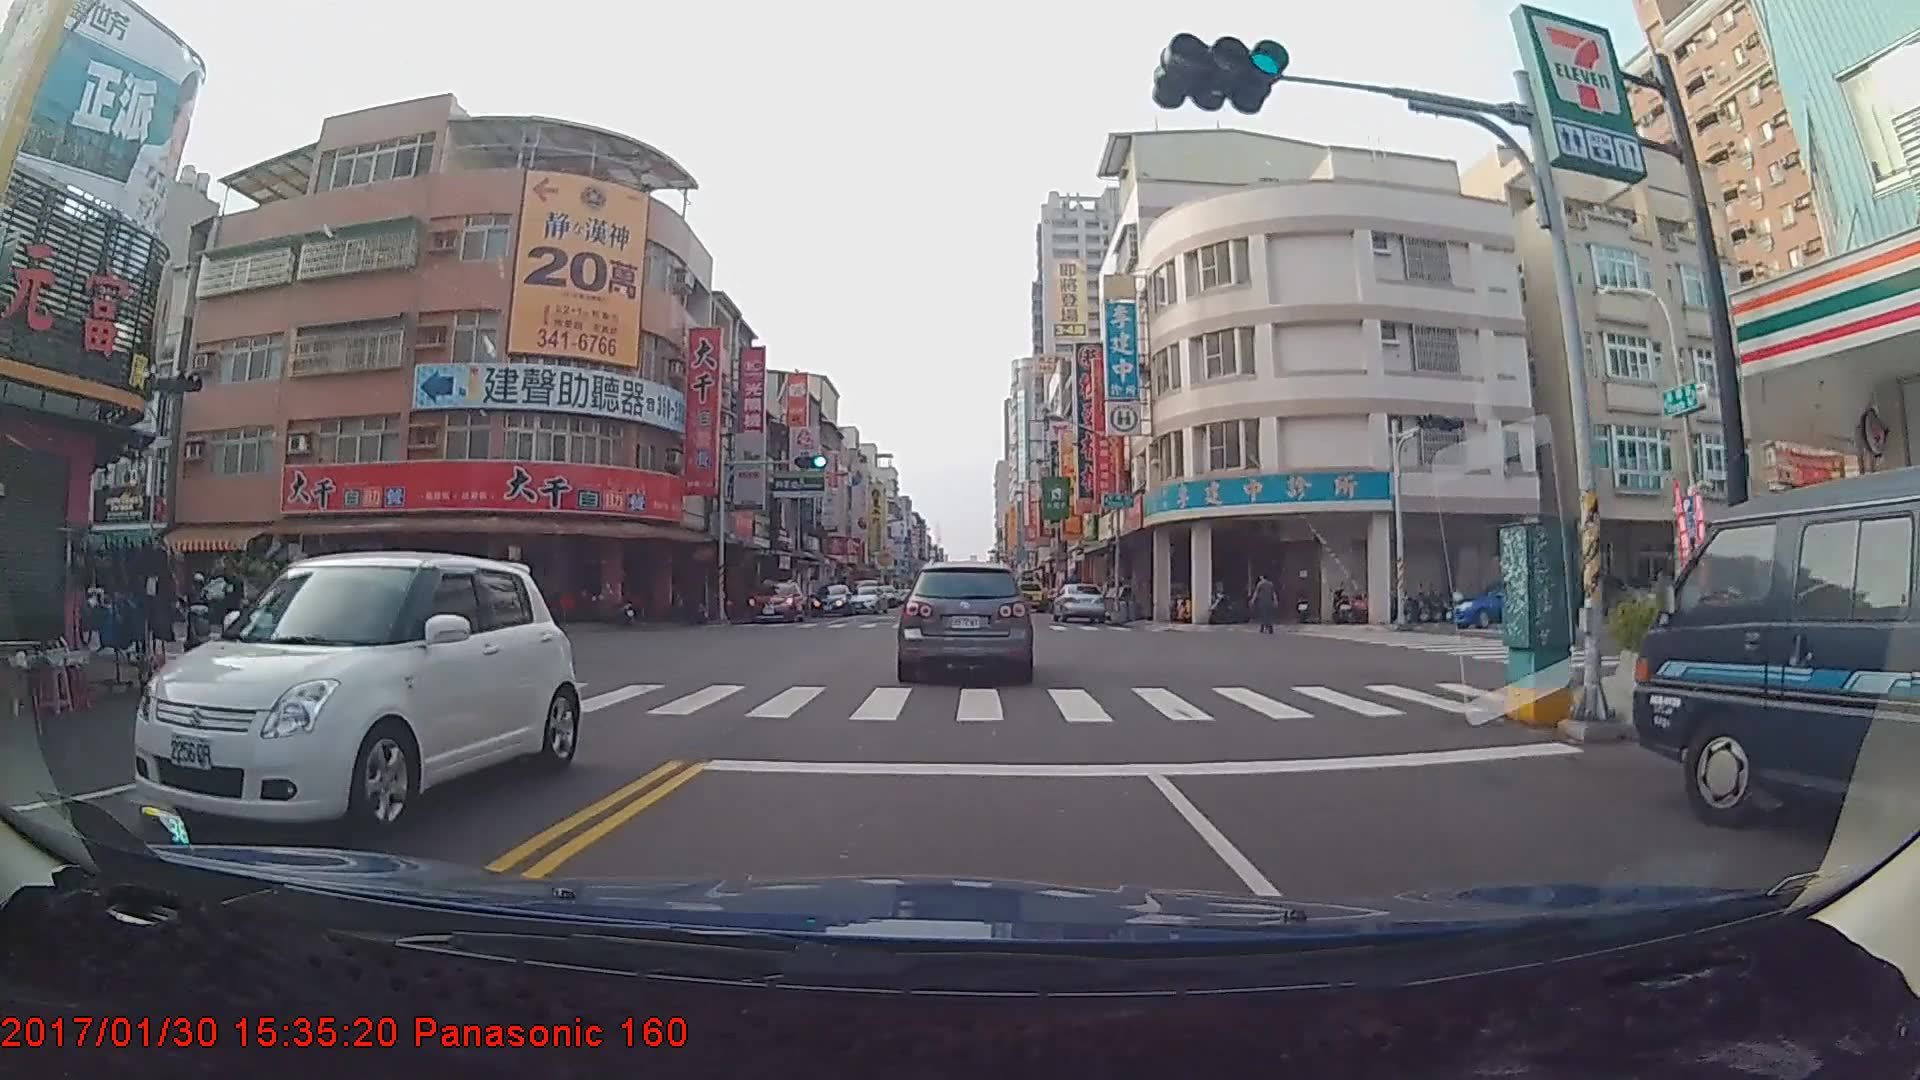pedestrian: (216, 576, 252, 673), (1252, 573, 1280, 638)
rider: (176, 566, 215, 669)
vehicle: (130, 538, 586, 840), (1628, 450, 1919, 891), (897, 561, 1033, 684), (1443, 578, 1574, 631), (750, 577, 804, 623), (1050, 580, 1107, 623), (809, 581, 853, 614), (843, 583, 886, 612), (1009, 581, 1045, 616)
